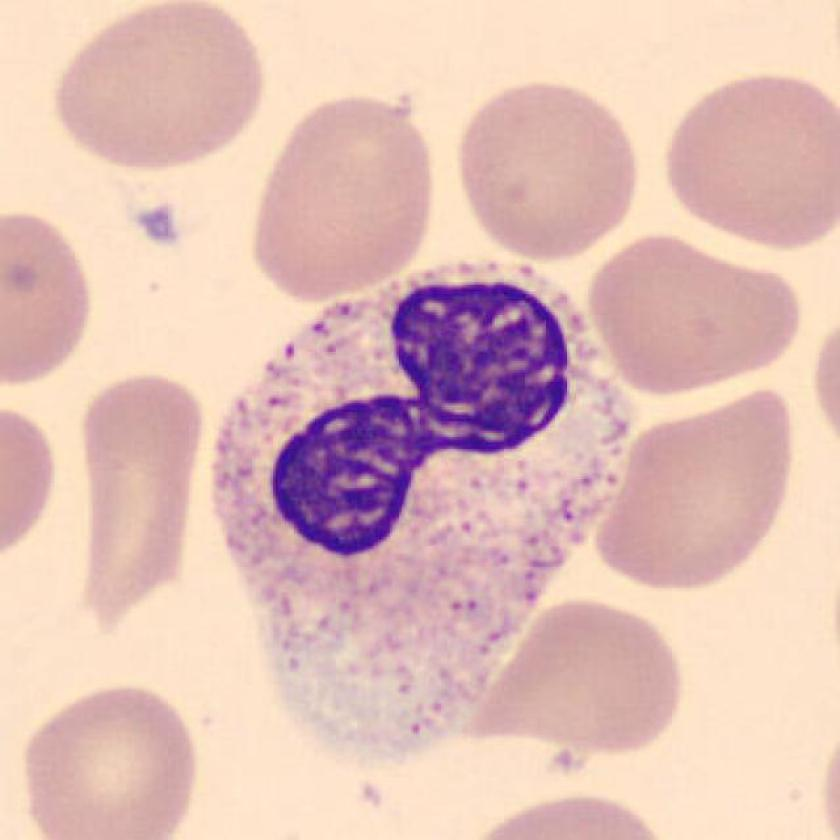neutrophil: (208, 262, 635, 773)
